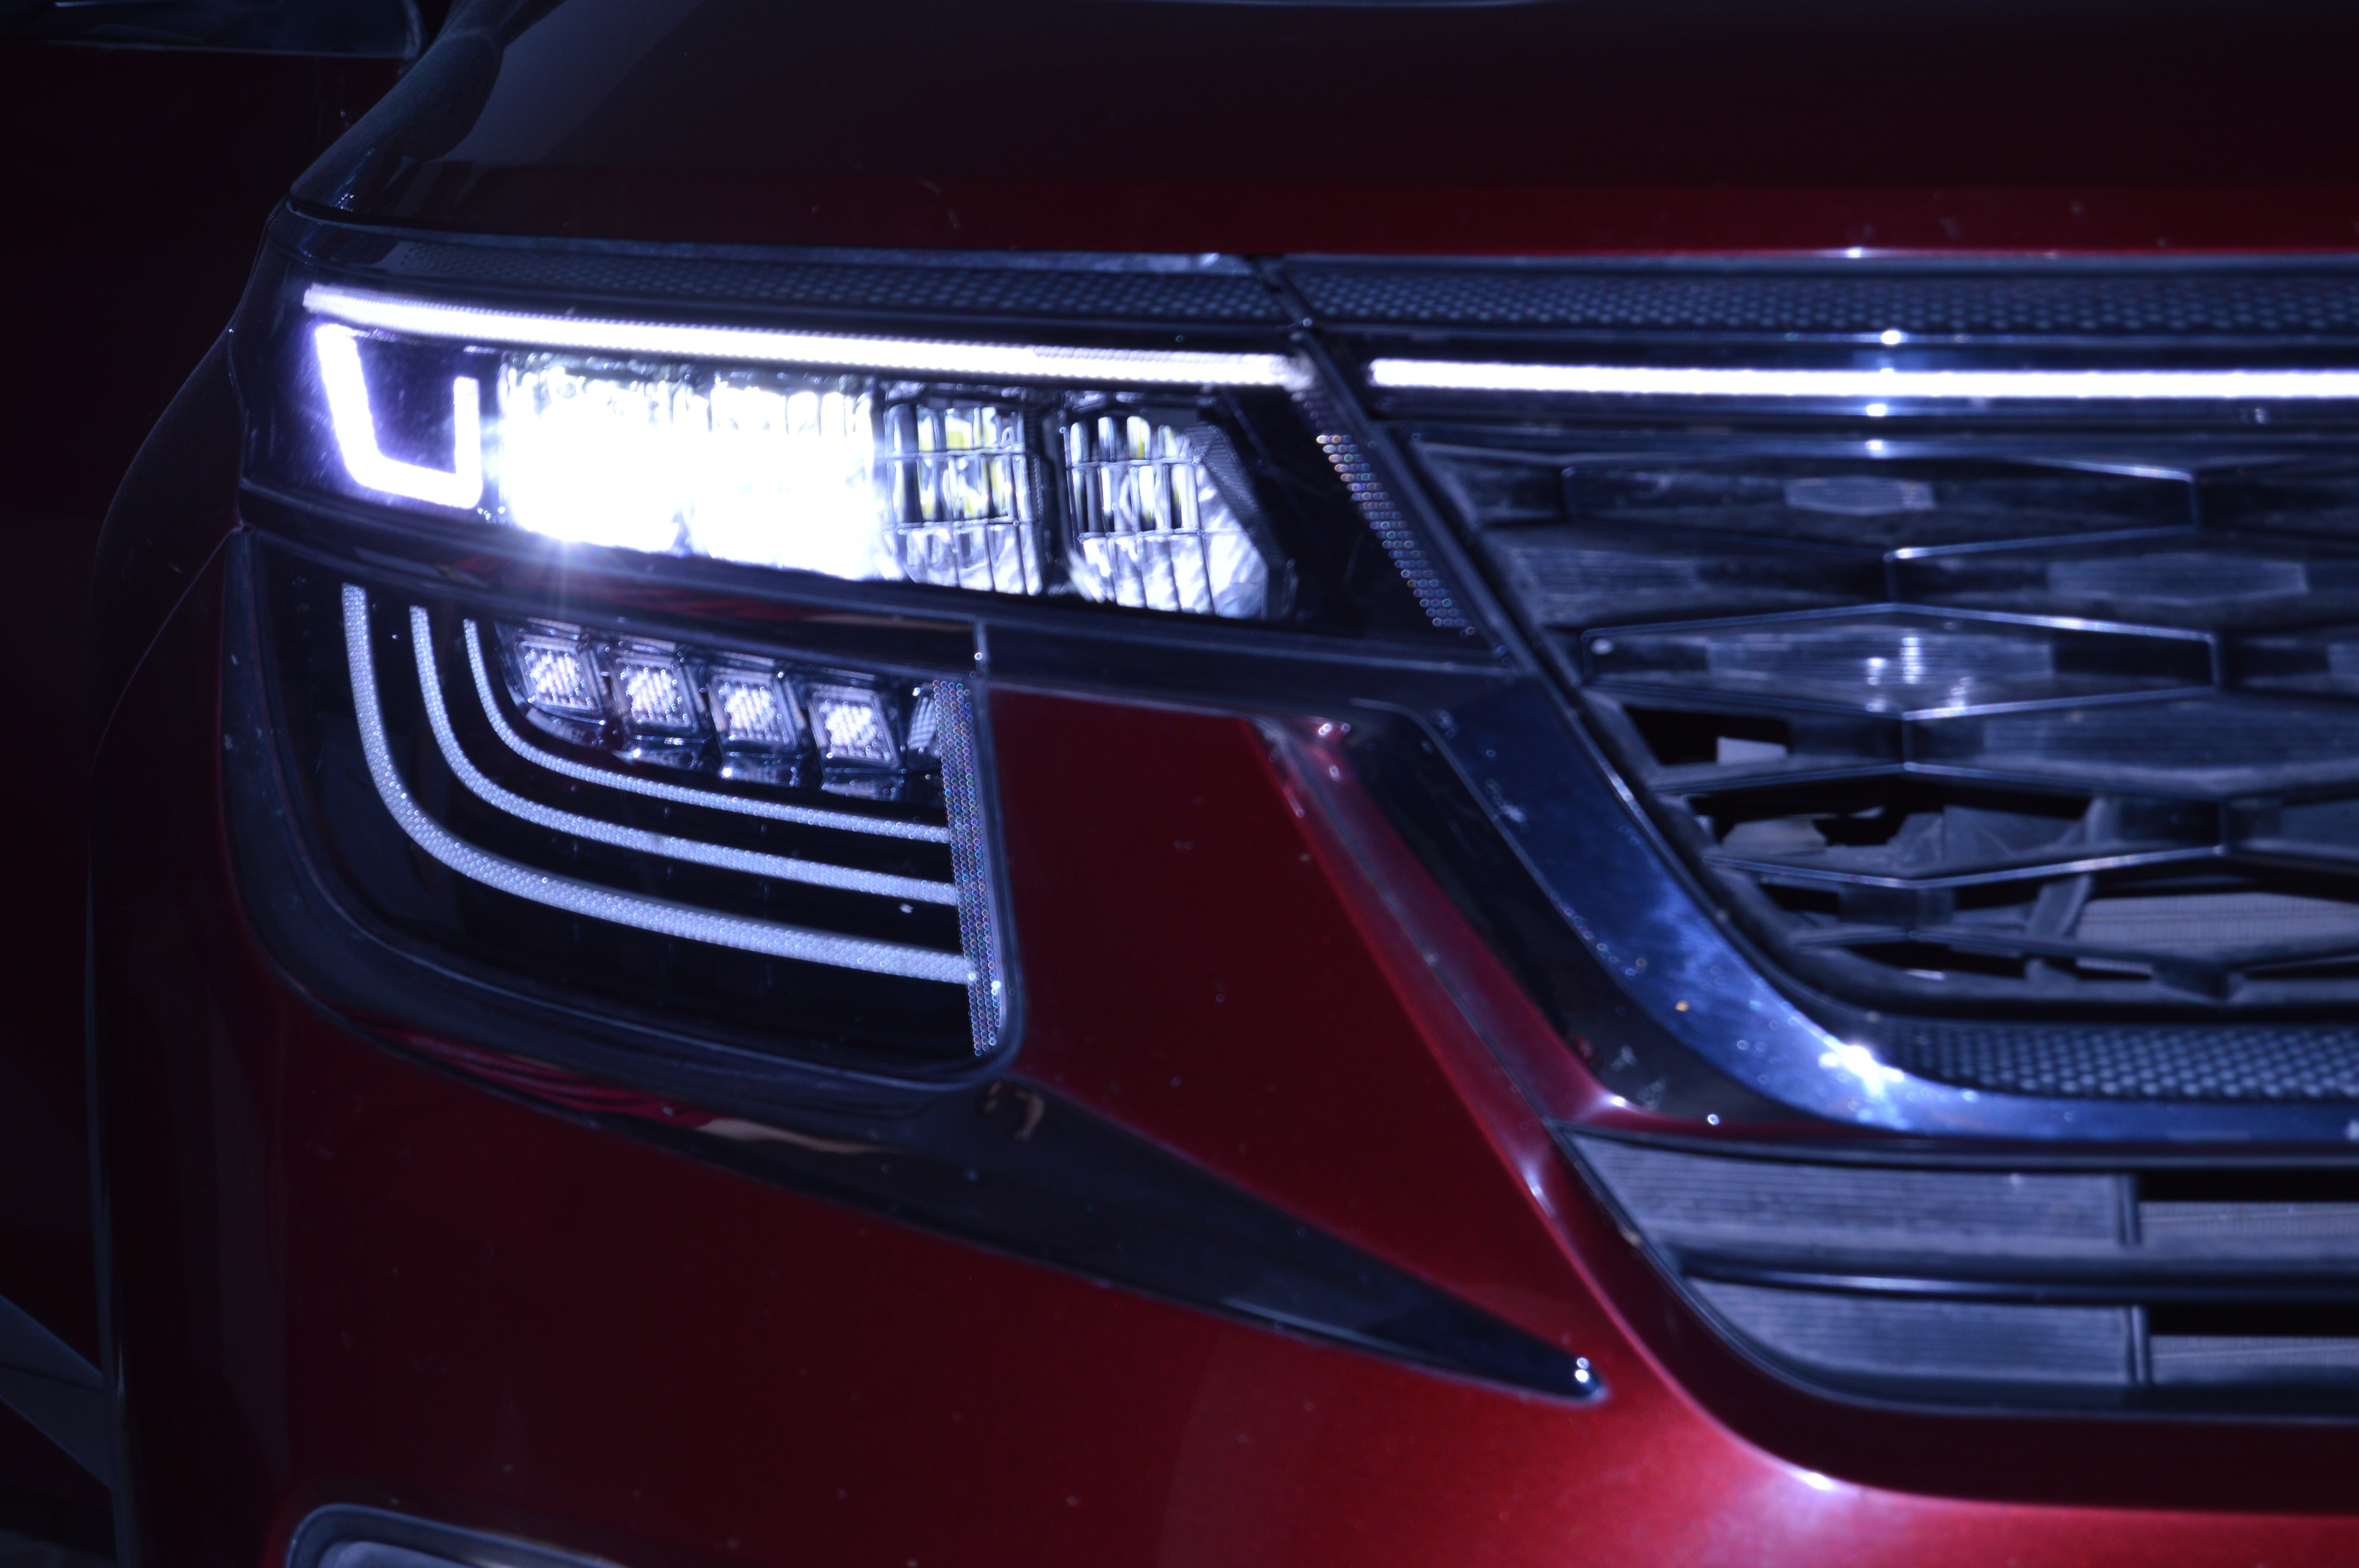Glare: (486, 359, 910, 576)
